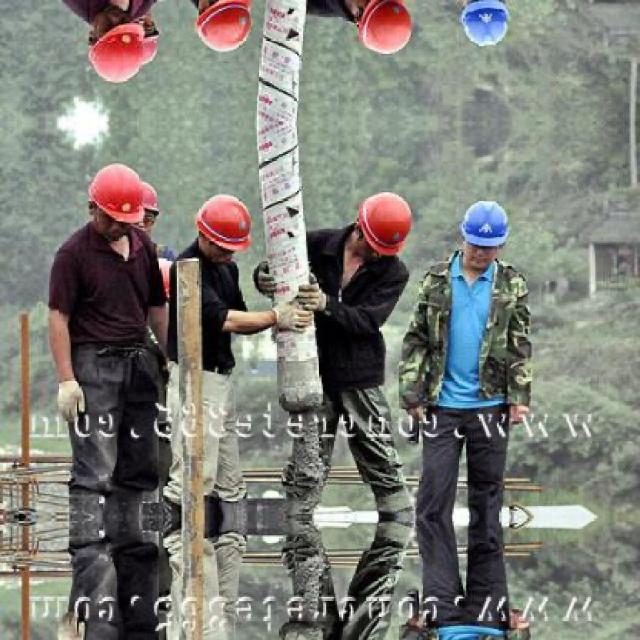con casco: (82, 166, 176, 247), (185, 185, 272, 255), (350, 189, 420, 255), (454, 197, 516, 266)
